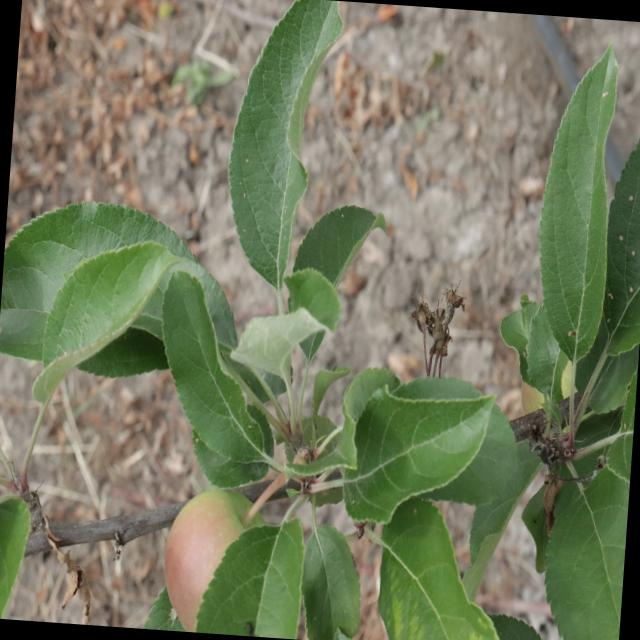-FireBlight-: (400, 300, 451, 373)
